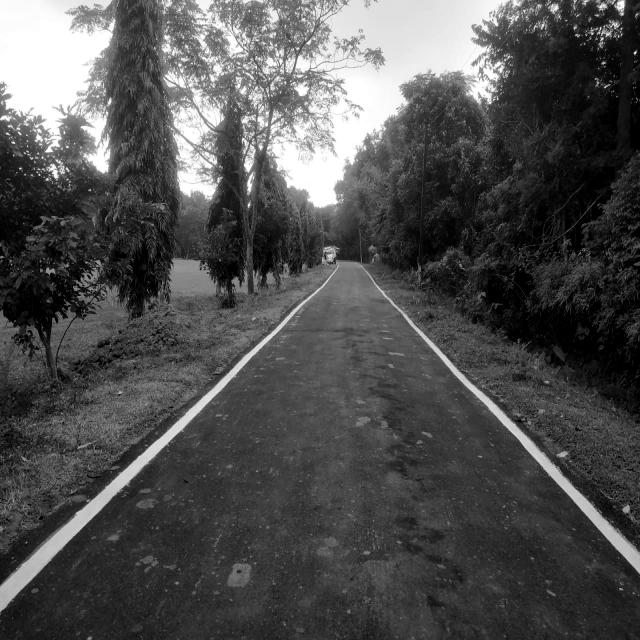cleat: (39, 176, 640, 640)
